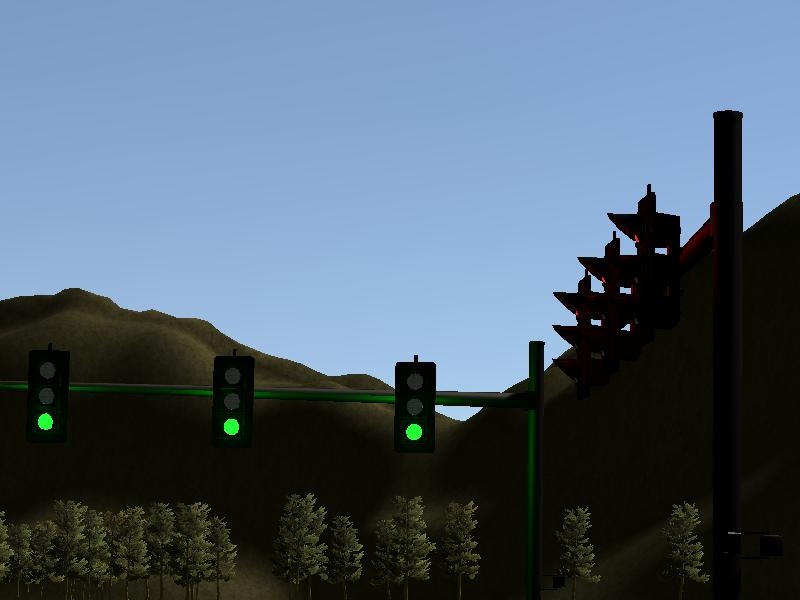Green: (25, 347, 69, 444), (211, 354, 255, 451), (394, 361, 436, 457)
